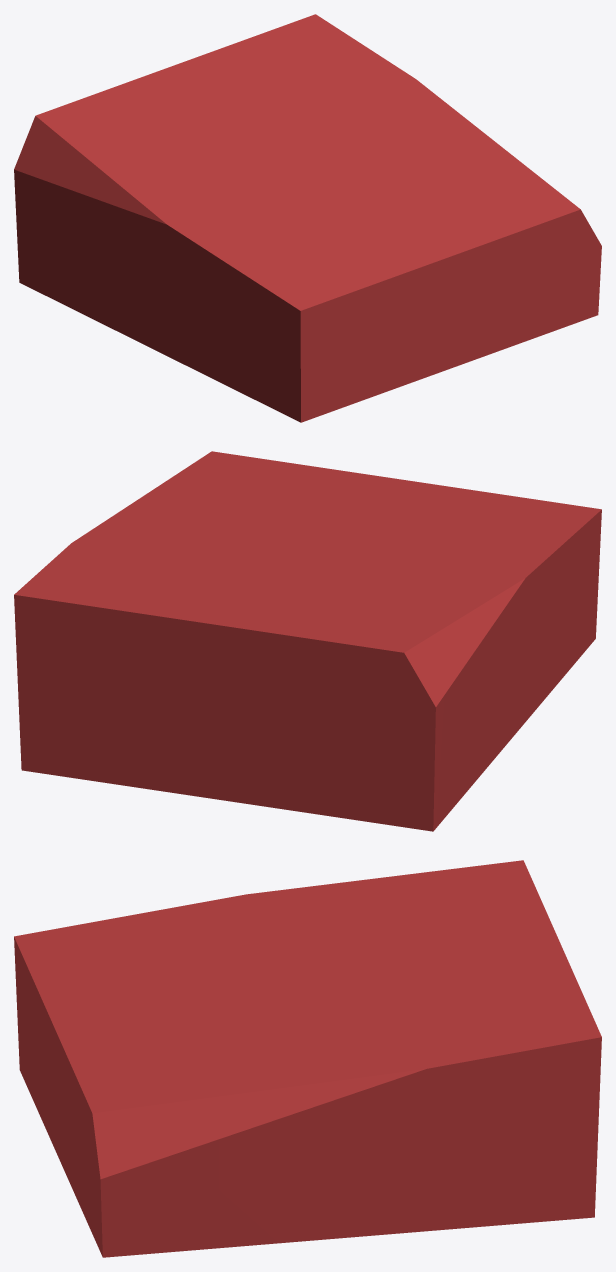
Rendered from ea_arch_wall03_rubble_01b_pre__21__2_lev1.glb.
The picture shows the model from 3 angles, top to bottom: view 1: azimuth 30°, elevation 25°; view 2: azimuth 150°, elevation 25°; view 3: azimuth 270°, elevation 25°; orthographic projection. The views are drawn at different scales.
Visible parts, largest first — view 1: ea_arch_wall03_rubble_01b_pre__21__2_lev1; view 2: ea_arch_wall03_rubble_01b_pre__21__2_lev1; view 3: ea_arch_wall03_rubble_01b_pre__21__2_lev1.
Part boxes in pixels (left/top/right/bottom): ea_arch_wall03_rubble_01b_pre__21__2_lev1: left=14, top=14, right=601, bottom=422; ea_arch_wall03_rubble_01b_pre__21__2_lev1: left=14, top=451, right=601, bottom=831; ea_arch_wall03_rubble_01b_pre__21__2_lev1: left=14, top=860, right=601, bottom=1257.
Bounding box in the file's own units: 0.1577 × 0.0587 × 0.1706.
1 material, 1 textured.
